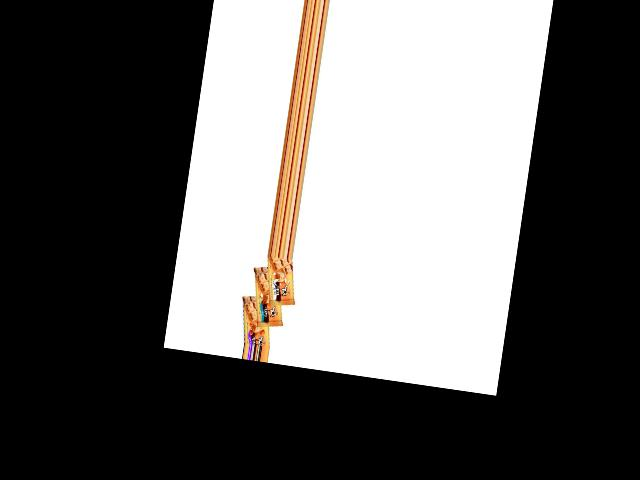chocolate: (238, 290, 277, 347)
